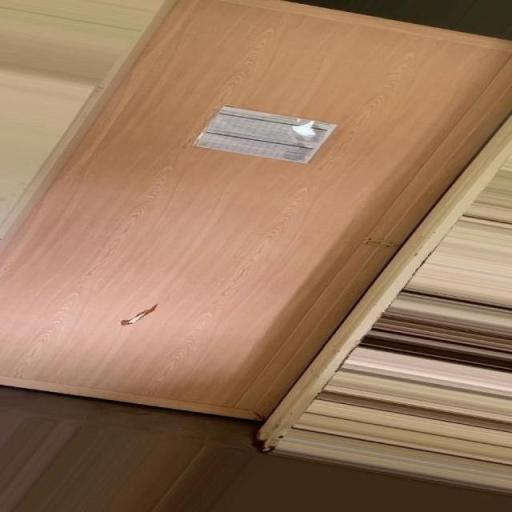door: (1, 0, 510, 422)
